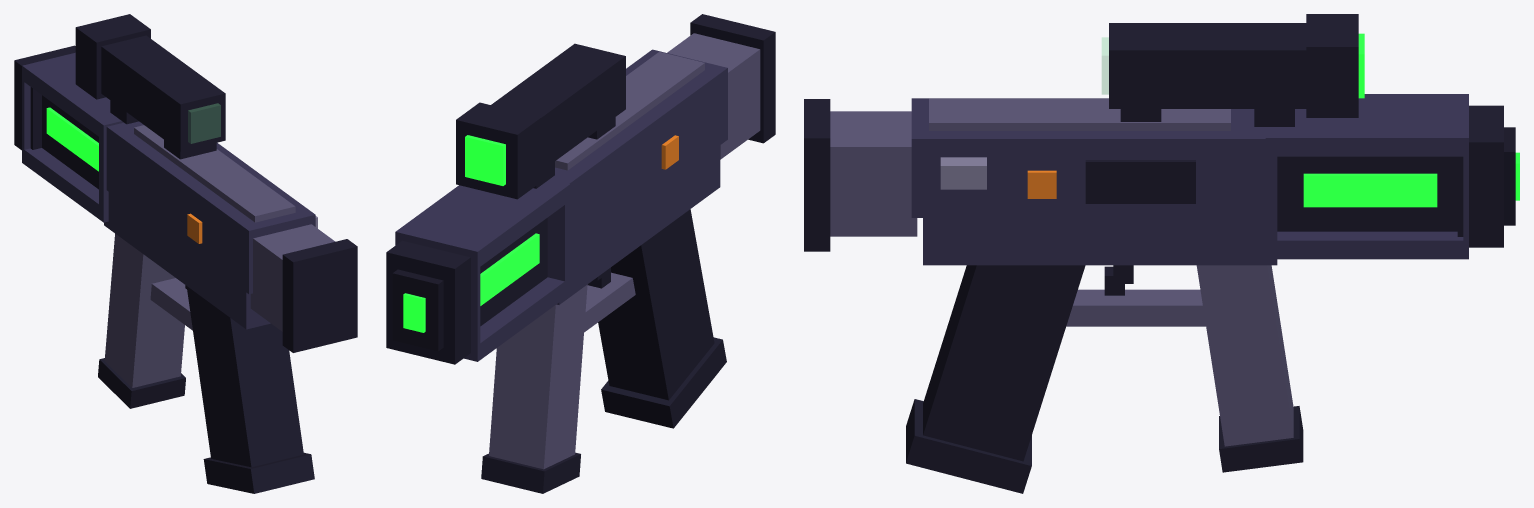
Rendered from scout_rifle.lod1.glb.
3 views of the same model, side by side, from view 1: azimuth 30°, elevation 25°; view 2: azimuth 150°, elevation 25°; view 3: azimuth 270°, elevation 25° (orthographic). The views are drawn at different scales.
Visible parts, largest first — view 1: item.scout_rifle.body, part.sight, part.mag; view 2: item.scout_rifle.body, part.sight, part.mag; view 3: item.scout_rifle.body, part.sight, part.mag, part.bolt.
Boxes of the visible parts, x1,y1,x2,y2 form: item.scout_rifle.body: (14,45,357,493); part.sight: (75,14,225,151); part.mag: (98,233,185,408); item.scout_rifle.body: (386,14,775,428); part.sight: (456,43,625,199); part.mag: (481,284,587,493); item.scout_rifle.body: (804,94,1519,493); part.sight: (1102,14,1364,117); part.mag: (1196,265,1303,472); part.bolt: (940,157,986,189).
Size of the model in its own units: 0.1303 by 0.5284 by 0.7703.
